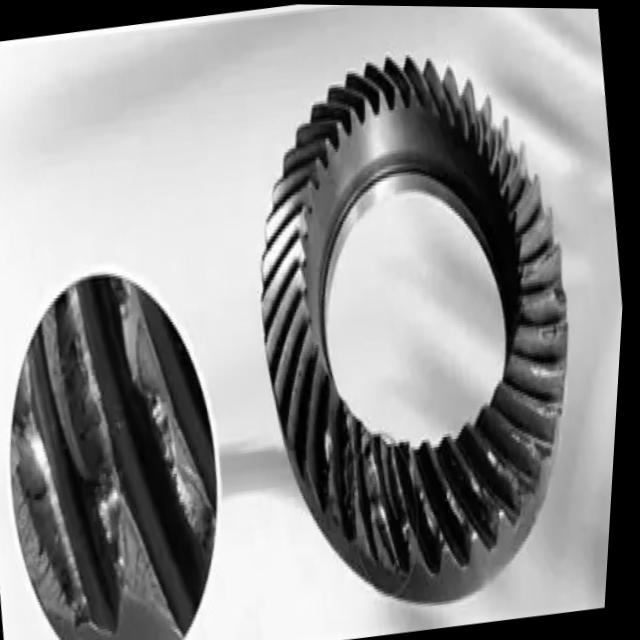Fault-Exist: (0, 322, 202, 640), (316, 449, 448, 602)
